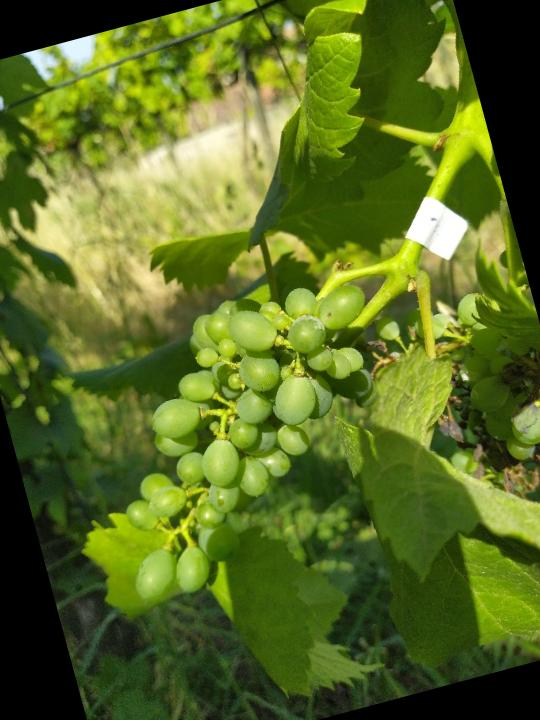grape: (62, 254, 455, 614)
